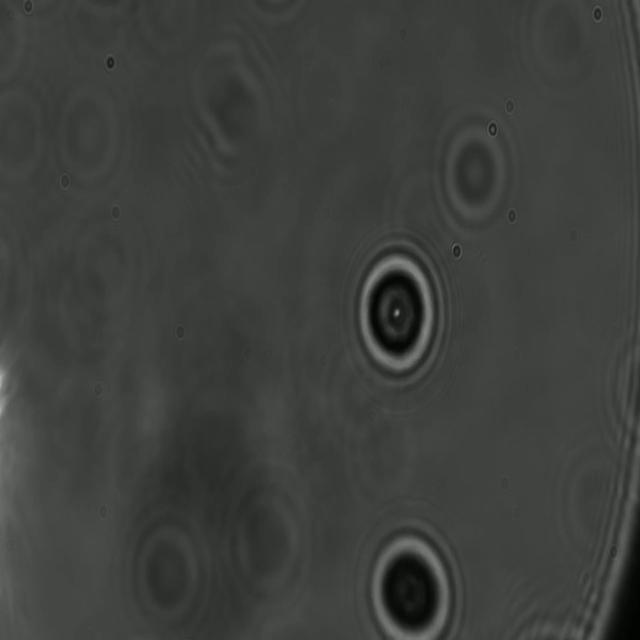LCELL: (338, 214, 458, 410)
